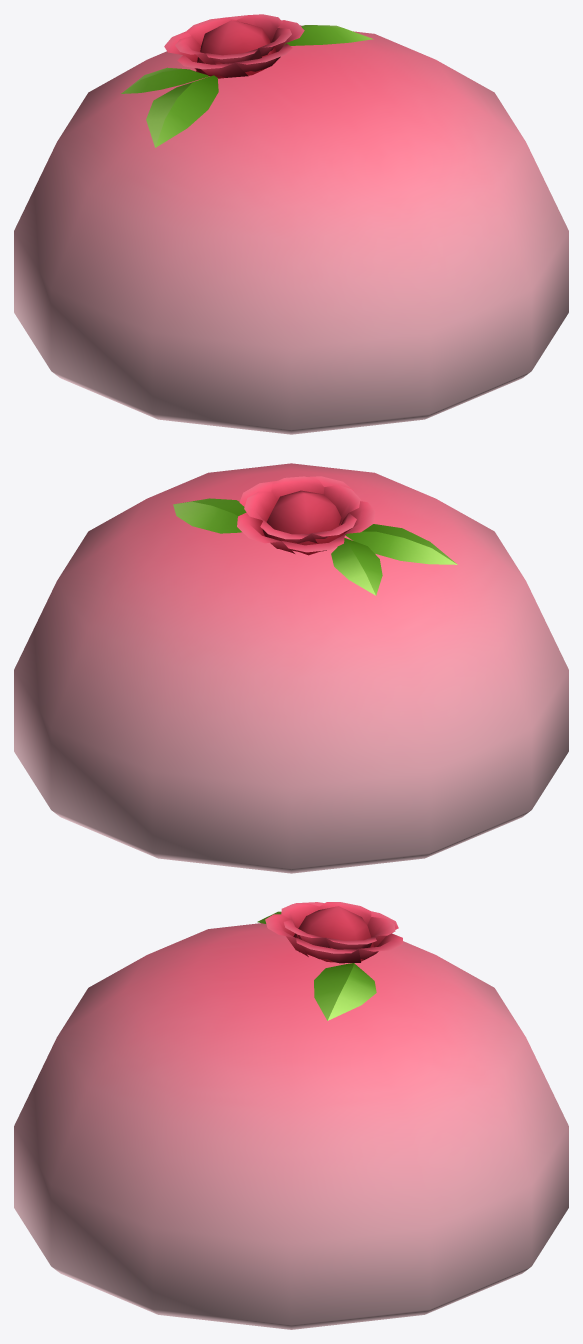
File: m_PrincessCake03.fbx
The picture shows the model from 3 angles, top to bottom: view 1: azimuth 30°, elevation 25°; view 2: azimuth 150°, elevation 25°; view 3: azimuth 270°, elevation 25°; orthographic projection.
Parts seen in each view (by area): view 1: m_PrincessCake03; view 2: m_PrincessCake03; view 3: m_PrincessCake03.
Boxes of the visible parts, <box> form: m_PrincessCake03: <box>14,14,568,434</box>; m_PrincessCake03: <box>14,463,568,873</box>; m_PrincessCake03: <box>14,902,568,1329</box>.
Size of the model in its own units: 28 by 16.33 by 28.
